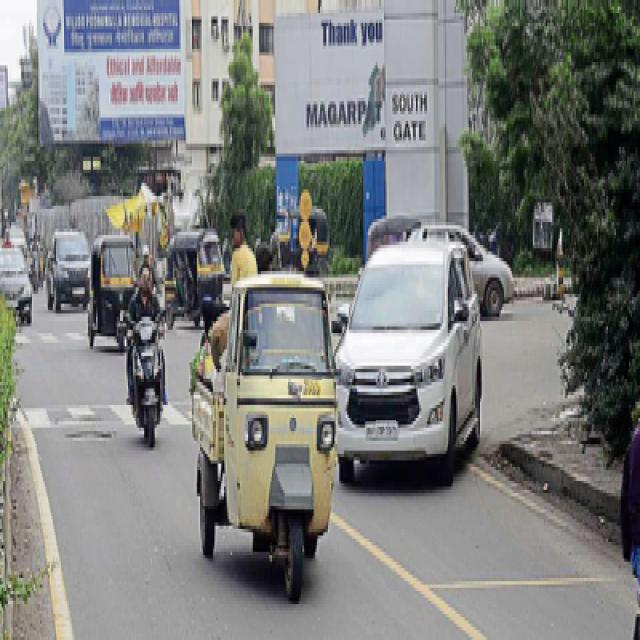licence: (366, 418, 396, 434), (300, 375, 322, 392)
